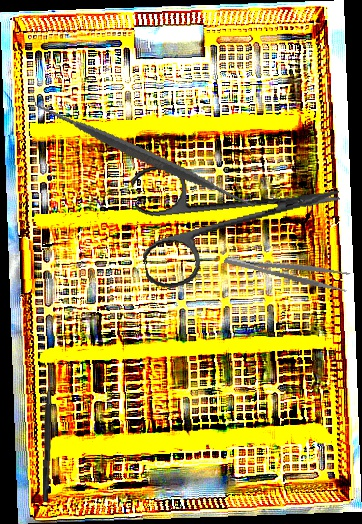Dressing Forceps: (223, 244, 351, 294)
Hook Surgical: (42, 362, 53, 503)
Iris Scissors: (129, 138, 350, 292)
Spatula Surgical: (31, 44, 257, 266)
